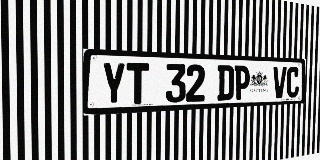2: (186, 64, 205, 102)
3: (166, 64, 186, 103)
C: (286, 67, 299, 98)
D: (217, 65, 234, 101)
P: (234, 65, 250, 100)
T: (126, 63, 149, 104)
V: (273, 66, 287, 98)
Y: (101, 62, 126, 106)
